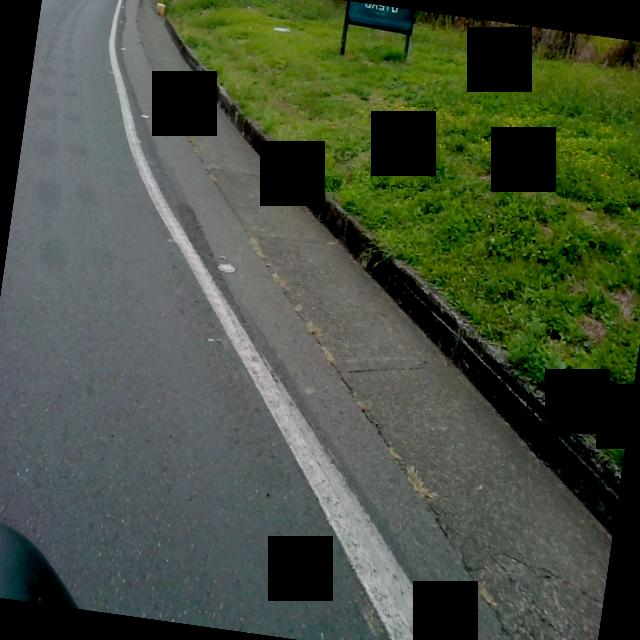DITCH: (0, 0, 640, 640), (0, 5, 640, 640), (30, 0, 640, 640)
